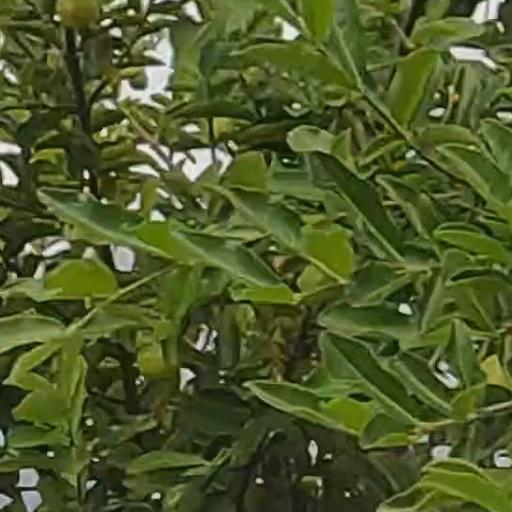acerola: (138, 343, 173, 381)
